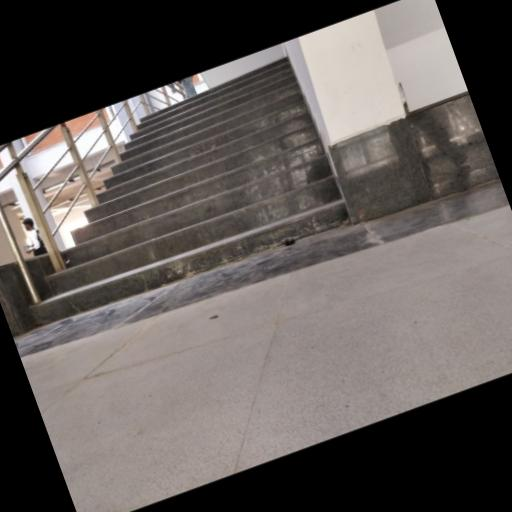stairs: (30, 58, 348, 324)
